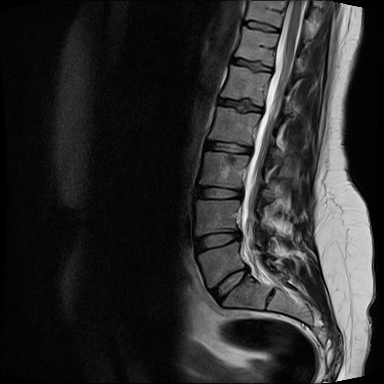Lumbar Disc Bulge (LDB): (205, 262, 256, 310), (191, 226, 247, 259)
Normal IVD: (190, 179, 249, 204), (199, 134, 257, 159), (225, 52, 276, 77), (213, 95, 267, 116), (239, 20, 282, 36)
Spinal Stenosis (SS): (231, 224, 246, 248), (242, 261, 254, 277)
